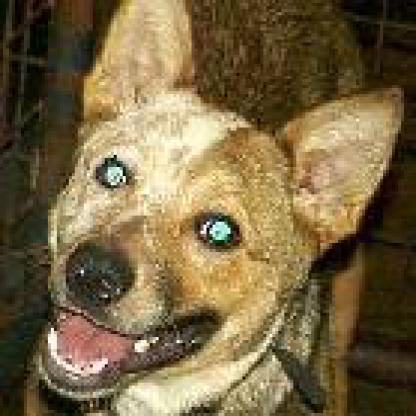dog: (38, 47, 316, 385)
